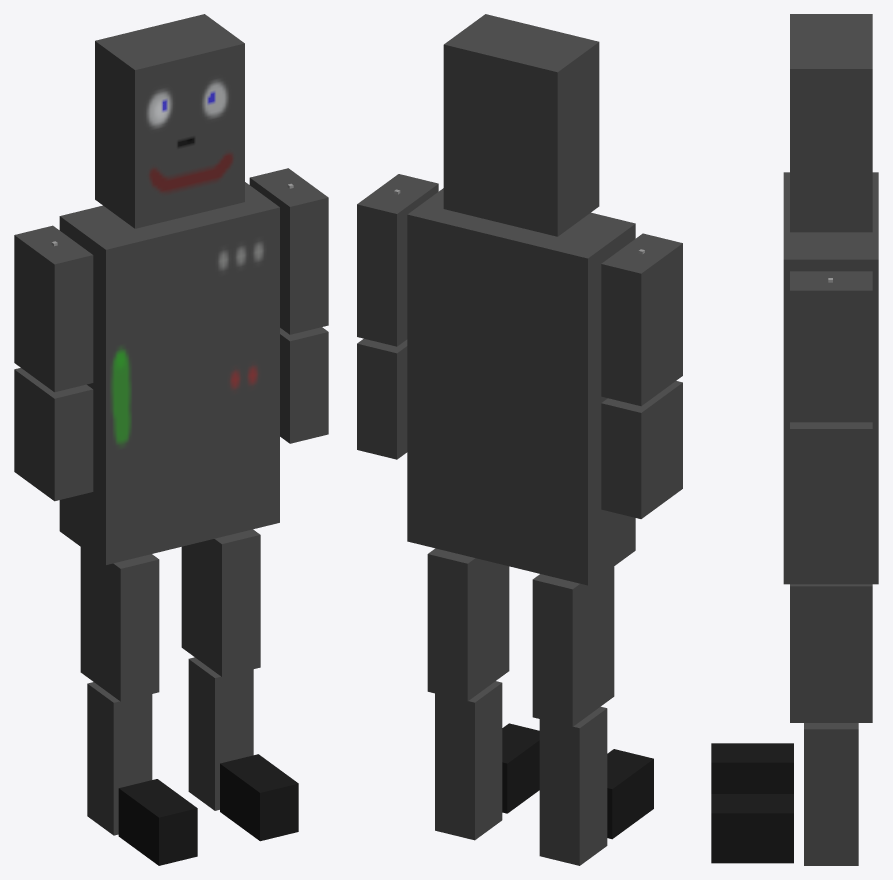
The model's file is robot2.obj.
The picture shows the model from 3 angles, left to right: view 1: azimuth 30°, elevation 25°; view 2: azimuth 150°, elevation 25°; view 3: azimuth 270°, elevation 25°; orthographic projection. The views are drawn at different scales.
Parts seen in each view (by area): view 1: body, head, ruarm, ruleg, luleg, rlarm, luarm, llleg, rlleg, rfoot, lfoot, llarm; view 2: body, head, ruarm, ruleg, luleg, rlleg, llleg, rlarm, luarm, llarm, rfoot, lfoot; view 3: head, body, luarm, luleg, llarm, llleg, lfoot, rfoot.
Part boxes in pixels (x1=…): body: x1=59, y1=182, x2=279, y2=564; head: x1=95, y1=14, x2=244, y2=228; ruarm: x1=14, y1=225, x2=93, y2=392; ruleg: x1=80, y1=547, x2=159, y2=701; luleg: x1=181, y1=529, x2=260, y2=676; rlarm: x1=14, y1=368, x2=93, y2=501; luarm: x1=249, y1=168, x2=328, y2=334; llleg: x1=188, y1=657, x2=253, y2=810; rlleg: x1=87, y1=682, x2=152, y2=835; rfoot: x1=118, y1=779, x2=197, y2=865; lfoot: x1=220, y1=754, x2=298, y2=841; llarm: x1=280, y1=327, x2=328, y2=443; body: x1=407, y1=188, x2=635, y2=585; head: x1=443, y1=14, x2=599, y2=236; ruarm: x1=601, y1=233, x2=682, y2=406; ruleg: x1=532, y1=566, x2=614, y2=726; luleg: x1=427, y1=548, x2=509, y2=701; rlleg: x1=539, y1=706, x2=607, y2=865; llleg: x1=435, y1=681, x2=502, y2=840; rlarm: x1=601, y1=381, x2=682, y2=518; luarm: x1=357, y1=174, x2=438, y2=346; llarm: x1=357, y1=338, x2=407, y2=459; rfoot: x1=607, y1=749, x2=653, y2=839; lfoot: x1=502, y1=723, x2=539, y2=813; head: x1=790, y1=14, x2=872, y2=232; body: x1=783, y1=172, x2=878, y2=584; luarm: x1=790, y1=271, x2=872, y2=422; luleg: x1=790, y1=584, x2=872, y2=722; llarm: x1=790, y1=422, x2=872, y2=534; llleg: x1=804, y1=723, x2=858, y2=865; lfoot: x1=711, y1=794, x2=793, y2=863; rfoot: x1=711, y1=743, x2=793, y2=793.
Size of the model in its own units: 0.4402 by 1.18 by 0.2265.
Materials: 2 (1 with a texture image).
